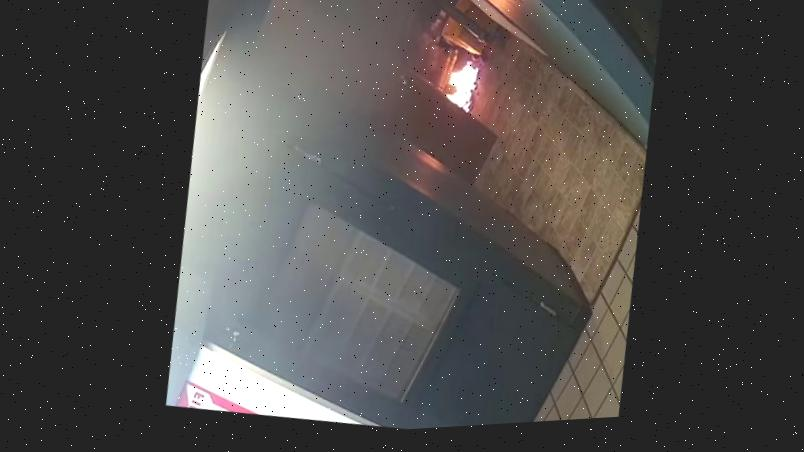fire: (420, 45, 501, 135)
